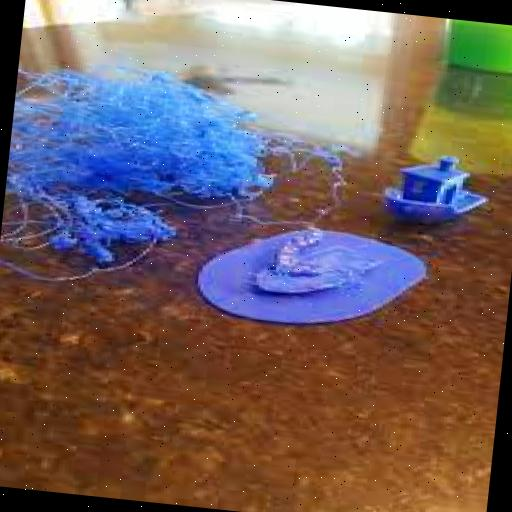spaghetti: (2, 52, 282, 289)
